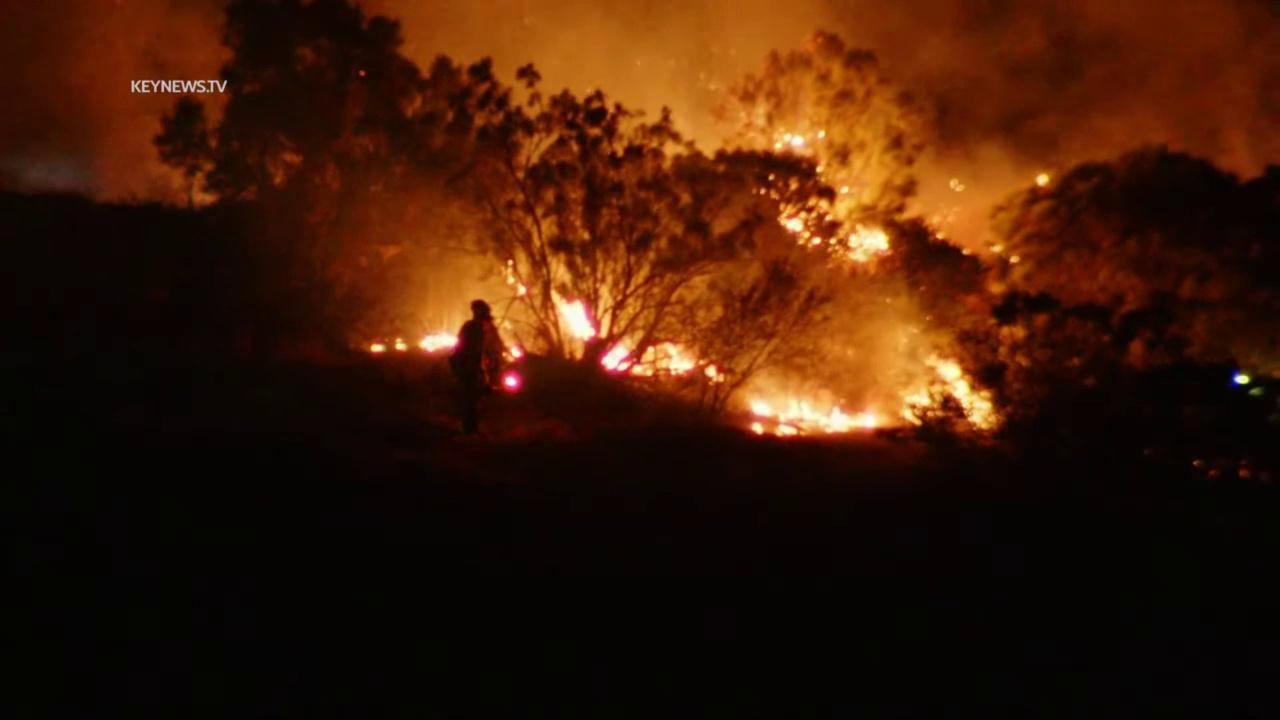fire: (898, 352, 1007, 434), (777, 196, 891, 264), (748, 398, 879, 437), (636, 341, 719, 380), (558, 297, 598, 340), (418, 323, 465, 354), (602, 343, 636, 375), (504, 258, 528, 296), (499, 370, 525, 396), (774, 130, 805, 151), (1032, 170, 1058, 187), (393, 333, 411, 352), (509, 345, 525, 363), (839, 181, 854, 194), (368, 342, 387, 351), (816, 128, 826, 140)
smoke: (0, 0, 1280, 275)
